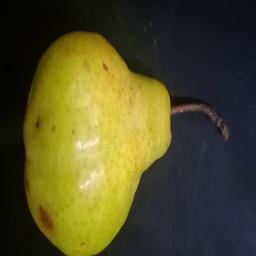Pear Semifresh: (16, 24, 233, 256)
